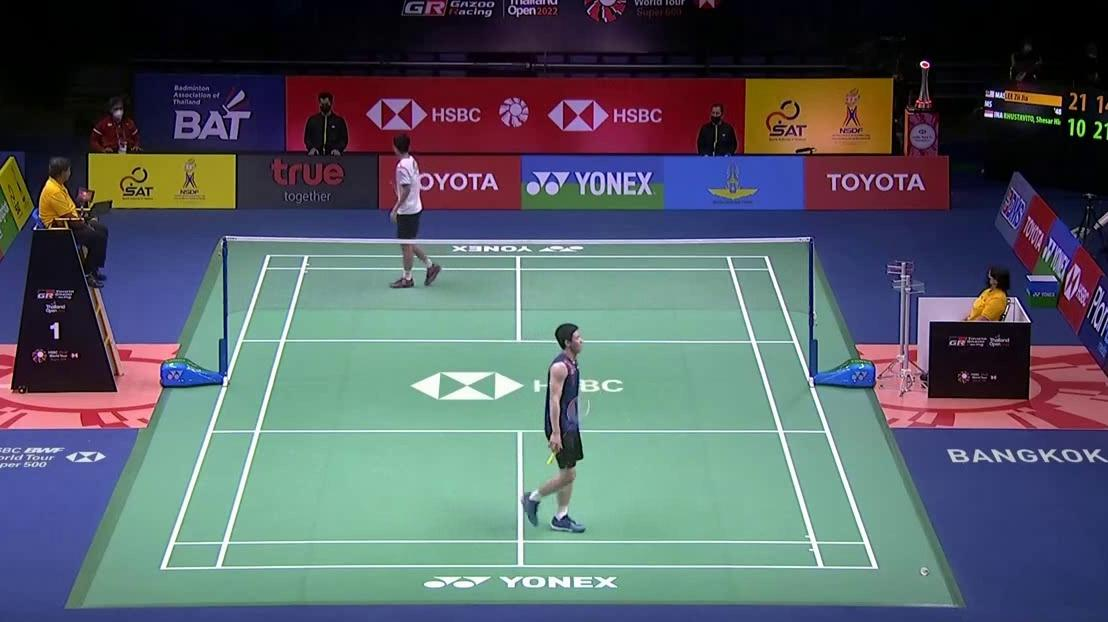racket: (545, 394, 591, 466), (390, 181, 400, 198)
shuttle: (919, 566, 931, 576)
